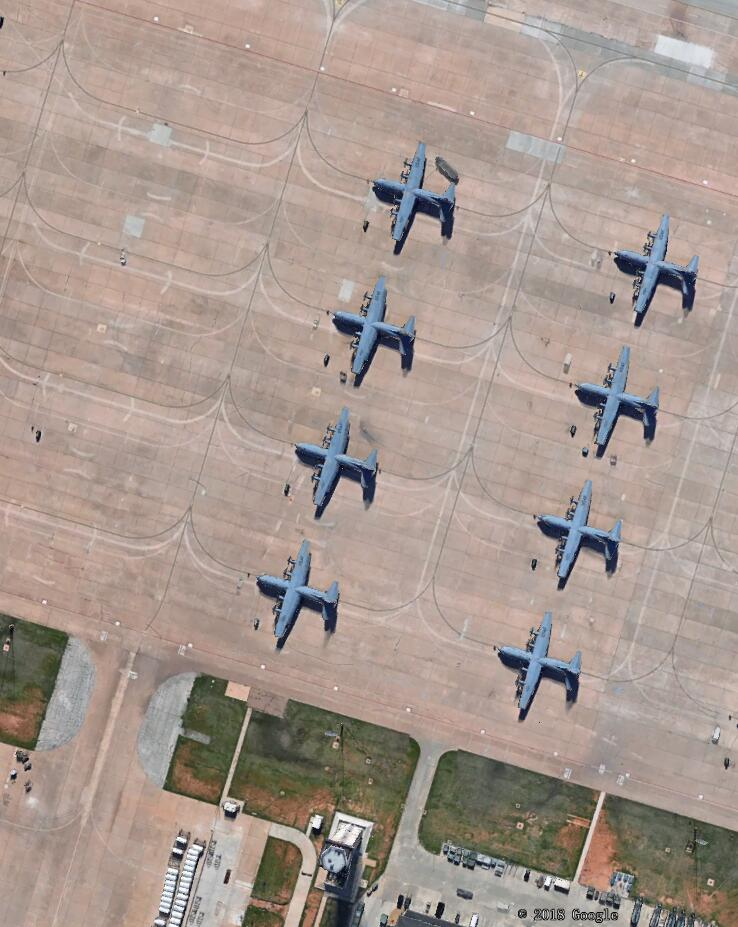A2: (363, 138, 468, 257), (323, 274, 427, 384), (532, 476, 629, 585), (607, 212, 706, 318), (290, 405, 387, 513), (573, 344, 670, 451), (498, 612, 584, 719), (256, 539, 342, 644)
